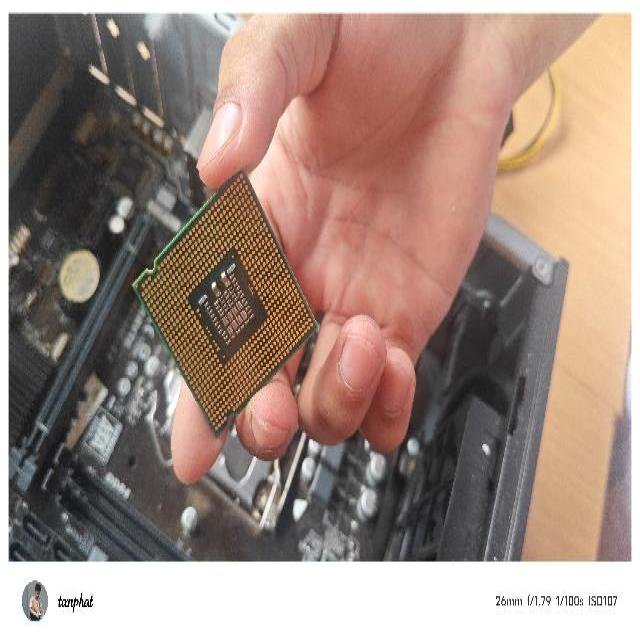CPU: (132, 163, 321, 441)
